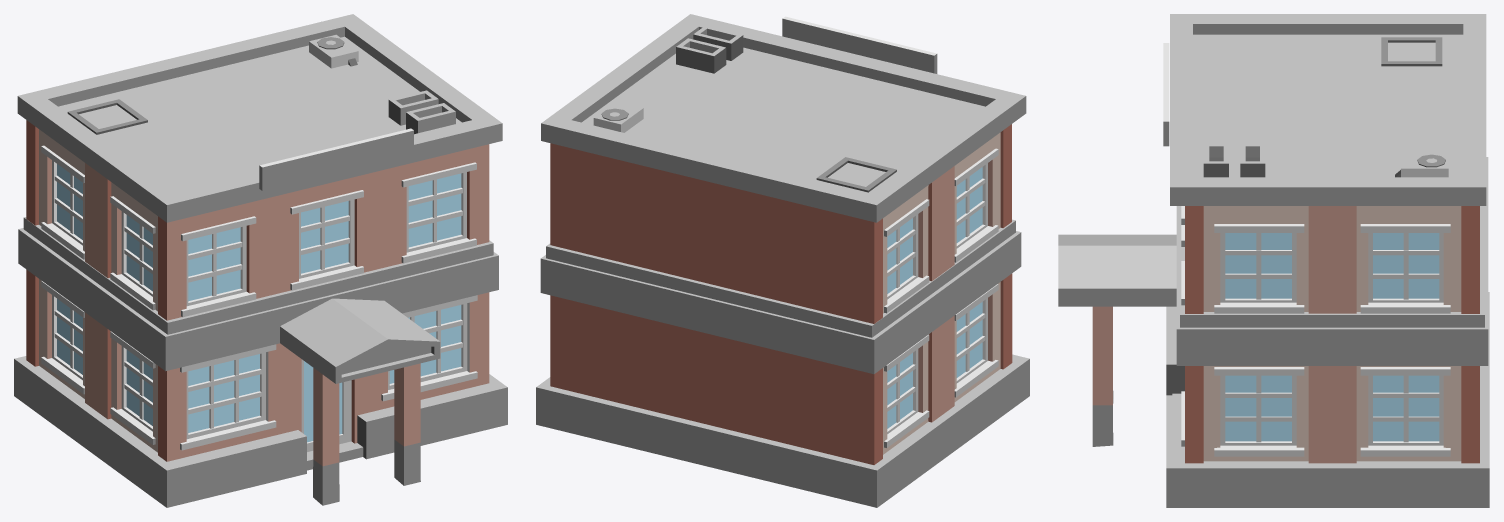
File: bank_002.fbx
The picture shows the model from 3 angles, left to right: view 1: azimuth 30°, elevation 25°; view 2: azimuth 150°, elevation 25°; view 3: azimuth 270°, elevation 25°; orthographic projection. The views are drawn at different scales.
Parts seen in each view (by area): view 1: bank_002; view 2: bank_002; view 3: bank_002.
Boxes of the visible parts, box(x1,y1,x2,y2) form: bank_002: box(14, 14, 507, 507); bank_002: box(536, 14, 1029, 507); bank_002: box(1058, 14, 1489, 507).
Bounding box in the file's own units: 710 × 637 × 734.
